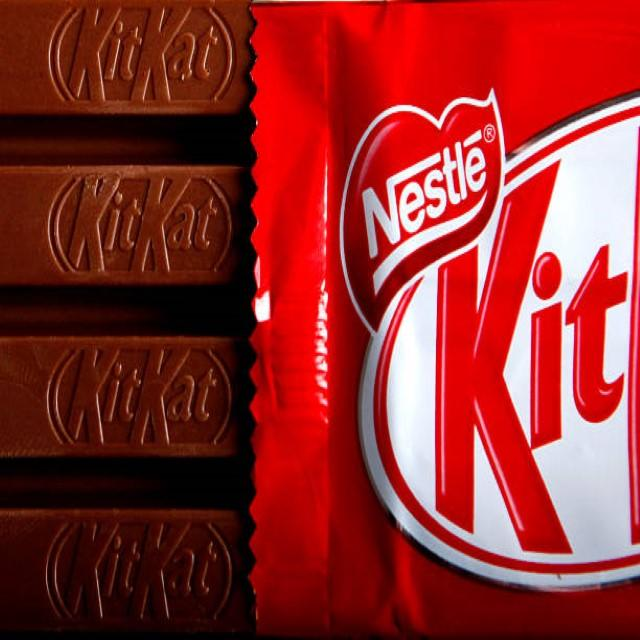kitkat_chocolate: (255, 10, 640, 640)
